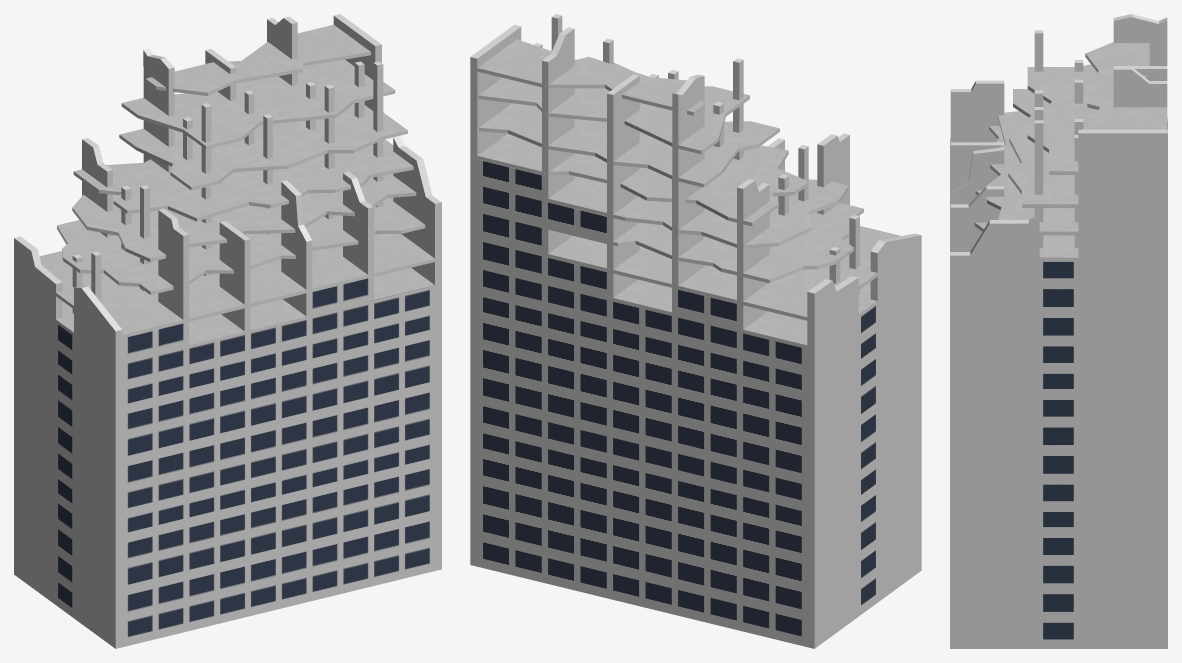
Rendered from Building_DT_M_W4_001.fbx.
3 views of the same model, side by side, from view 1: azimuth 30°, elevation 25°; view 2: azimuth 150°, elevation 25°; view 3: azimuth 270°, elevation 25° (orthographic). The views are drawn at different scales.
Parts seen in each view (by area): view 1: Building_DT_M_W4_001; view 2: Building_DT_M_W4_001; view 3: Building_DT_M_W4_001.
Part boxes in pixels (x1=…): Building_DT_M_W4_001: x1=14, y1=14, x2=441, y2=648; Building_DT_M_W4_001: x1=470, y1=14, x2=921, y2=648; Building_DT_M_W4_001: x1=950, y1=14, x2=1167, y2=648.
Size of the model in its own units: 58.34 by 86.73 by 31.47.
